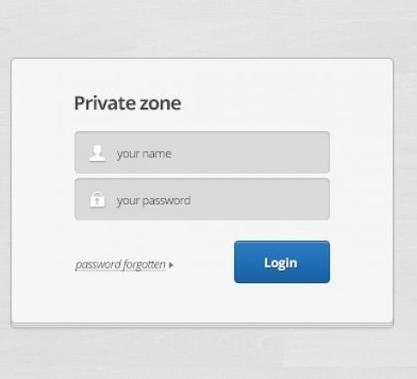button: (231, 240, 332, 285)
field: (73, 129, 333, 176), (73, 175, 333, 222)
